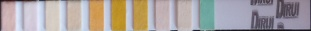color 1: (2, 2, 14, 31)
color 10: (201, 1, 212, 29)
color 2: (25, 3, 36, 29)
color 3: (47, 2, 59, 30)
color 4: (67, 2, 80, 29)
color 5: (91, 2, 102, 31)
color 6: (112, 1, 125, 31)
color 7: (135, 1, 146, 30)
color 8: (156, 2, 169, 29)
color 9: (178, 2, 191, 29)
